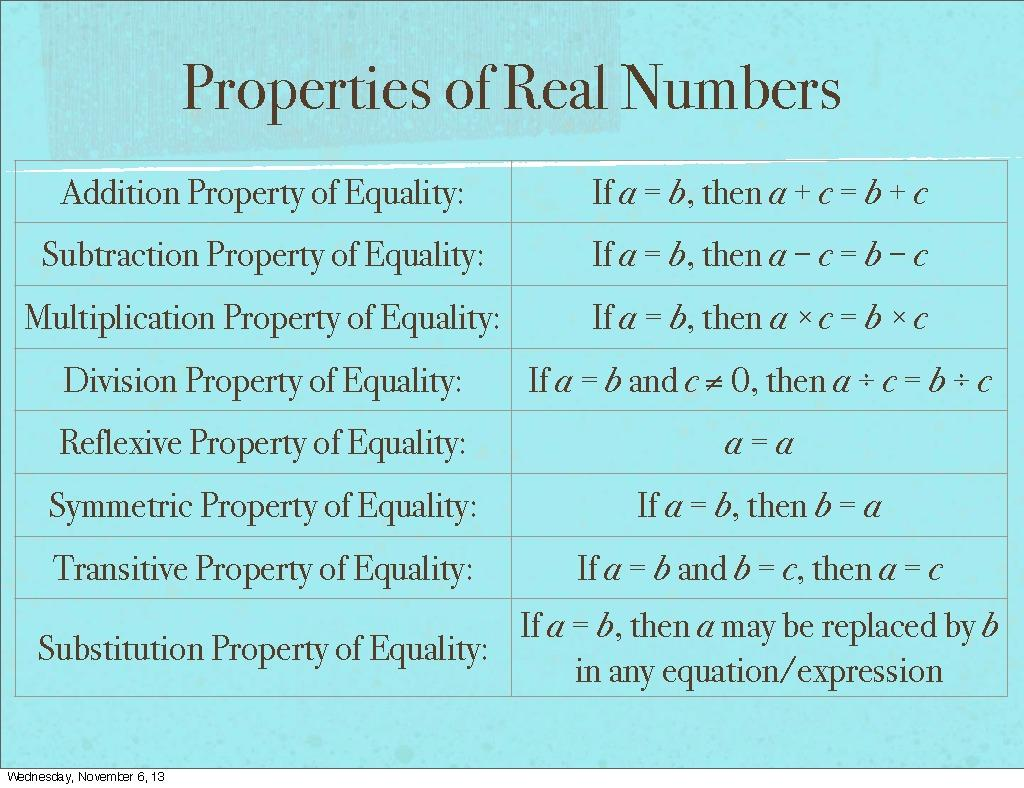paragraph: (15, 144, 1019, 719)
title: (169, 31, 855, 138)
